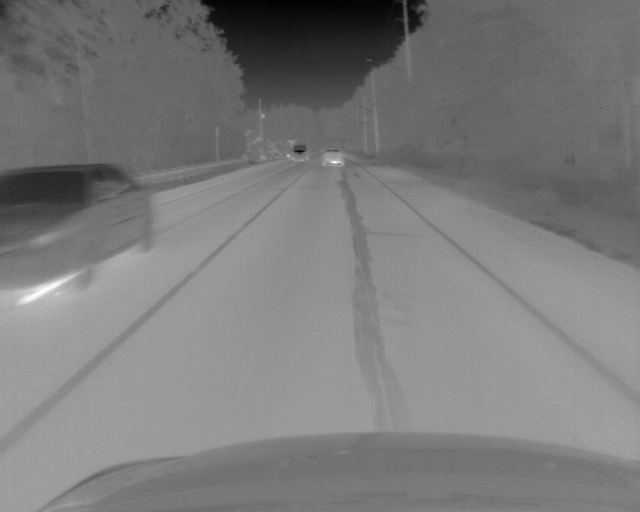car: (1, 162, 156, 303), (320, 147, 345, 167), (290, 142, 309, 163)
